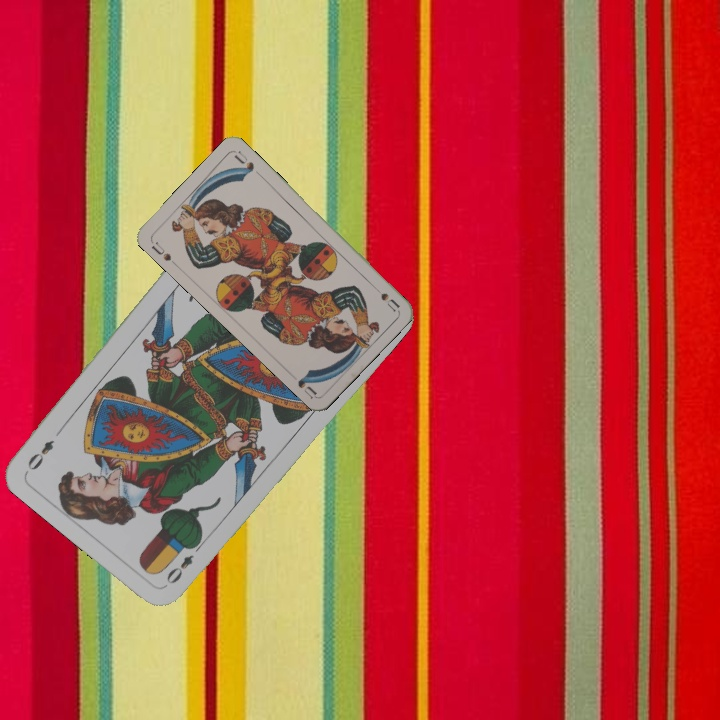EO: (162, 537, 206, 587)
SU: (147, 238, 174, 264), (376, 289, 402, 314)
